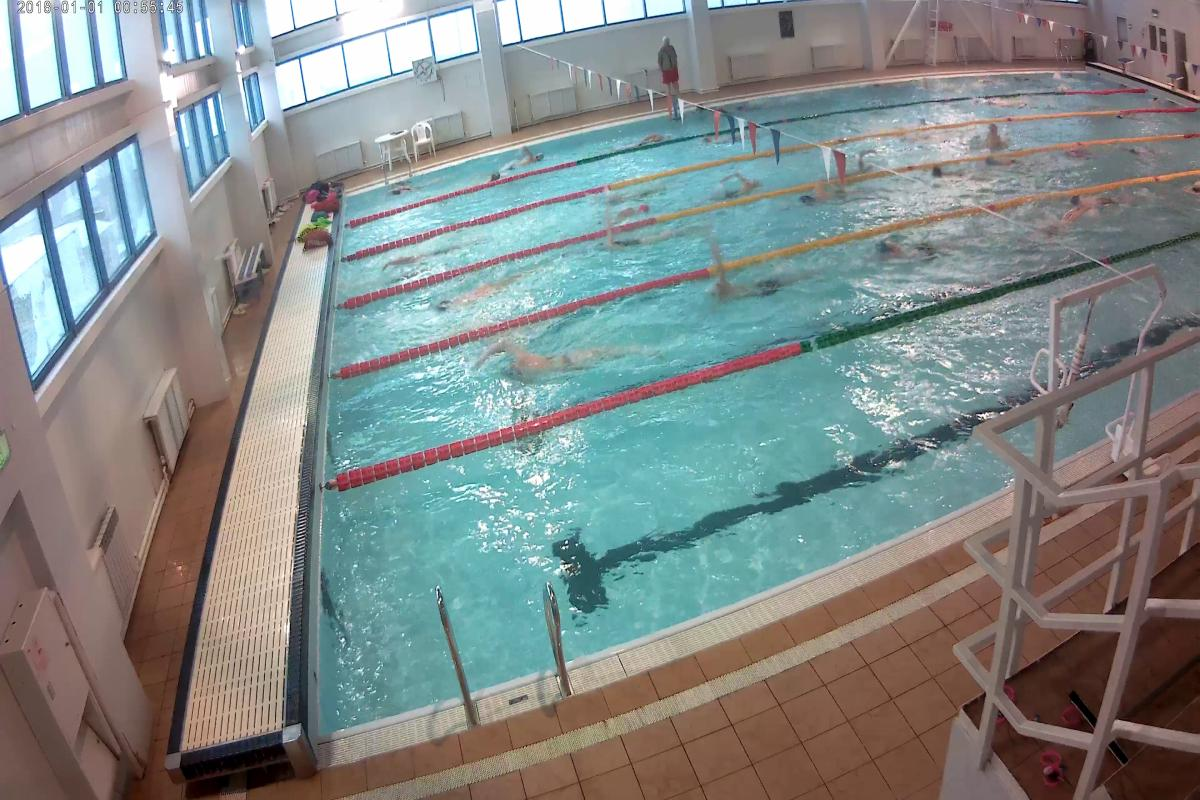swimmer: (470, 332, 626, 386), (700, 257, 820, 304), (430, 270, 528, 318), (866, 224, 973, 262), (594, 224, 688, 256), (792, 180, 858, 214), (703, 172, 763, 200), (603, 198, 661, 223), (1032, 212, 1095, 234), (927, 160, 971, 183), (982, 121, 1009, 156), (1078, 195, 1133, 210)
